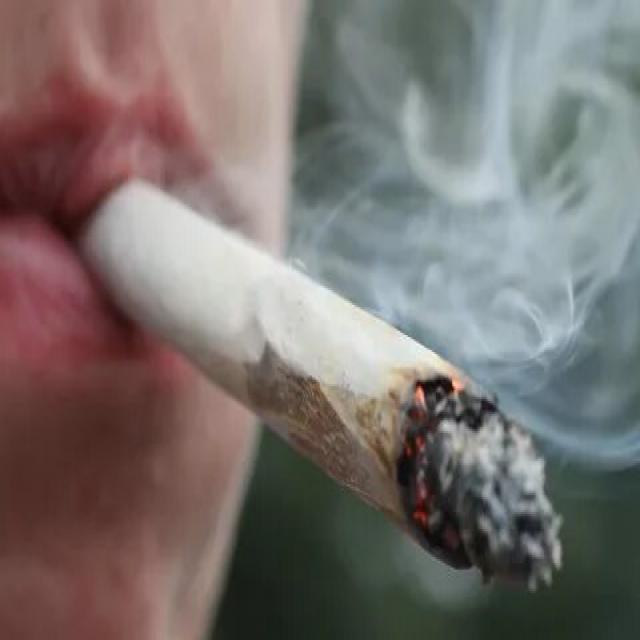cigarette: (68, 165, 563, 600)
